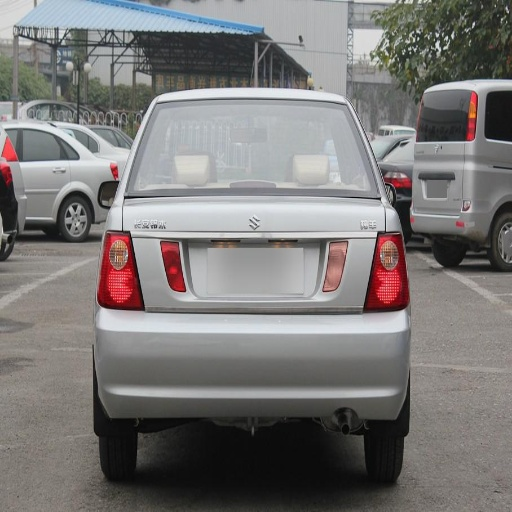back_bumper: (95, 308, 408, 430)
tailgate: (128, 194, 385, 312)
trunk: (127, 198, 201, 259), (477, 163, 510, 218)
